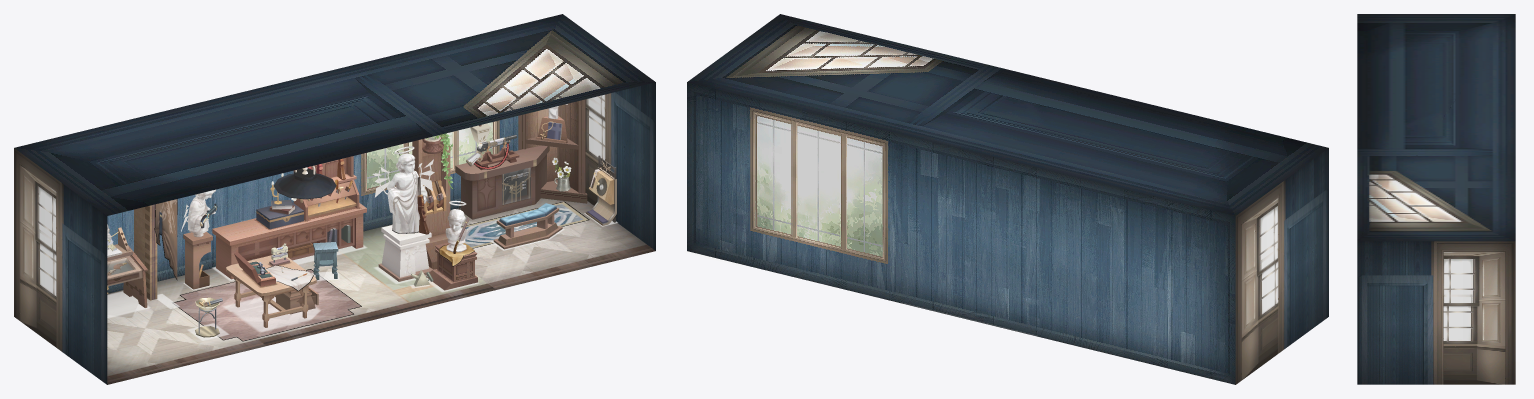
Rendered from gunworkshop.glb.
The picture shows the model from 3 angles, left to right: view 1: azimuth 30°, elevation 25°; view 2: azimuth 150°, elevation 25°; view 3: azimuth 270°, elevation 25°; orthographic projection. The views are drawn at different scales.
Visible parts, largest first — view 1: ROOM_room, ROOM_floor, furni_gunworkshop_storage_01, furni_gunworkshop_longtable_01, furni_gunworkshop_statues_01, furni_gunworkshop_carpet_01, furni_gunworkshop_statues_02, furni_gunworkshop_table_01, furni_gunworkshop_bench_01, furni_gunworkshop_cabinet_01, furni_gunworkshop_partition_01, furni_gunworkshop_carpet_02 (+15 smaller); view 2: ROOM_room, ROOM_LDoor; view 3: ROOM_room, ROOM_RDoor, shadow_01.010.
Part boxes in pixels (x1=…): ROOM_room: x1=14, y1=14, x2=655, y2=384; ROOM_floor: x1=107, y1=198, x2=655, y2=384; furni_gunworkshop_storage_01: x1=455, y1=99, x2=587, y2=219; furni_gunworkshop_longtable_01: x1=212, y1=156, x2=366, y2=279; furni_gunworkshop_statues_01: x1=378, y1=134, x2=477, y2=290; furni_gunworkshop_carpet_01: x1=173, y1=269, x2=361, y2=341; furni_gunworkshop_statues_02: x1=372, y1=146, x2=467, y2=252; furni_gunworkshop_table_01: x1=226, y1=243, x2=318, y2=327; furni_gunworkshop_bench_01: x1=493, y1=203, x2=562, y2=249; furni_gunworkshop_cabinet_01: x1=107, y1=227, x2=147, y2=307; furni_gunworkshop_partition_01: x1=134, y1=204, x2=157, y2=300; furni_gunworkshop_carpet_02: x1=461, y1=201, x2=589, y2=248; ROOM_room: x1=687, y1=14, x2=1328, y2=384; ROOM_LDoor: x1=1296, y1=250, x2=1315, y2=340; ROOM_room: x1=1357, y1=14, x2=1515, y2=384; ROOM_RDoor: x1=1380, y1=319, x2=1412, y2=384; shadow_01.010: x1=1467, y1=361, x2=1519, y2=384.
Bounding box in the file's own units: 7.49 × 2.2 × 2.26.
7 materials, 7 textured.
